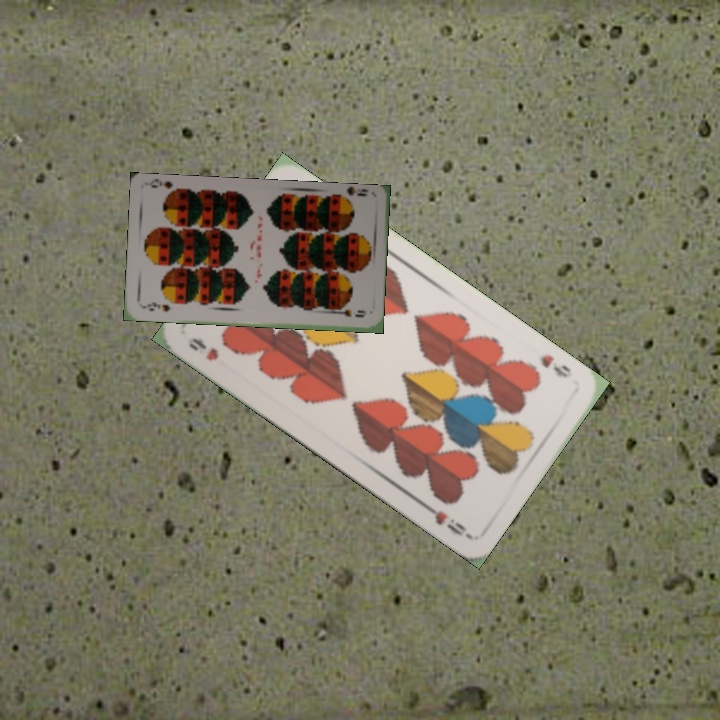H9: (536, 350, 575, 381), (183, 333, 221, 364)
S9: (333, 186, 370, 206), (139, 298, 173, 314)
